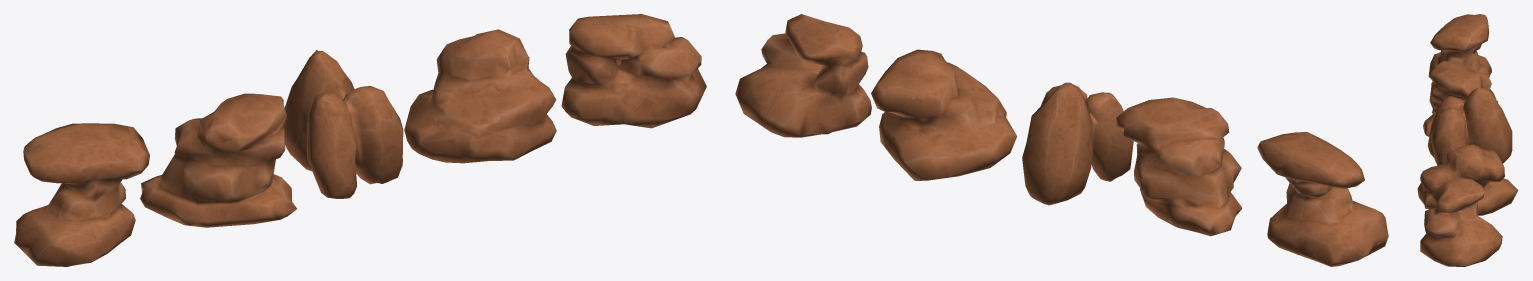
Rendered from Medium_Rocks_Formation.fbx.
The picture shows the model from 3 angles, left to right: view 1: azimuth 30°, elevation 25°; view 2: azimuth 150°, elevation 25°; view 3: azimuth 270°, elevation 25°; orthographic projection. The views are drawn at different scales.
Parts seen in each view (by area): view 1: MRock2, MRock1, MRock4, MRock3, MRock5; view 2: MRock2, MRock1, MRock3, MRock4, MRock5; view 3: MRock3, MRock5, MRock2, MRock4, MRock1.
Boxes of the visible parts, x1,y1,x2,y2 form: MRock2: (404,29,556,163); MRock1: (140,93,296,227); MRock4: (14,123,149,266); MRock3: (561,14,706,128); MRock5: (284,50,403,198); MRock2: (871,49,1017,180); MRock1: (1116,97,1241,236); MRock3: (735,14,871,137); MRock4: (1257,132,1388,266); MRock5: (1022,82,1133,205); MRock3: (1420,178,1502,266); MRock5: (1427,87,1512,165); MRock2: (1417,144,1518,215); MRock4: (1428,14,1491,80); MRock1: (1423,60,1498,136).
Size of the model in its own units: 26.74 by 4.56 by 5.54.
